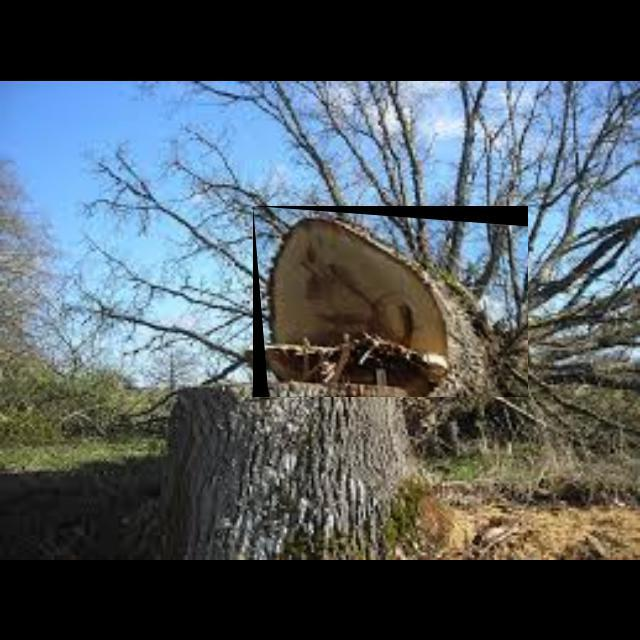fallen_tree: (253, 206, 529, 398)
